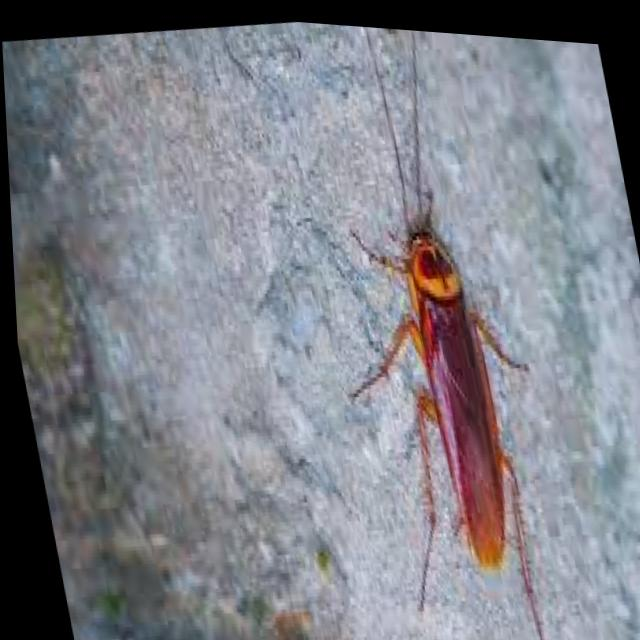Cockroach: (271, 16, 610, 640)
